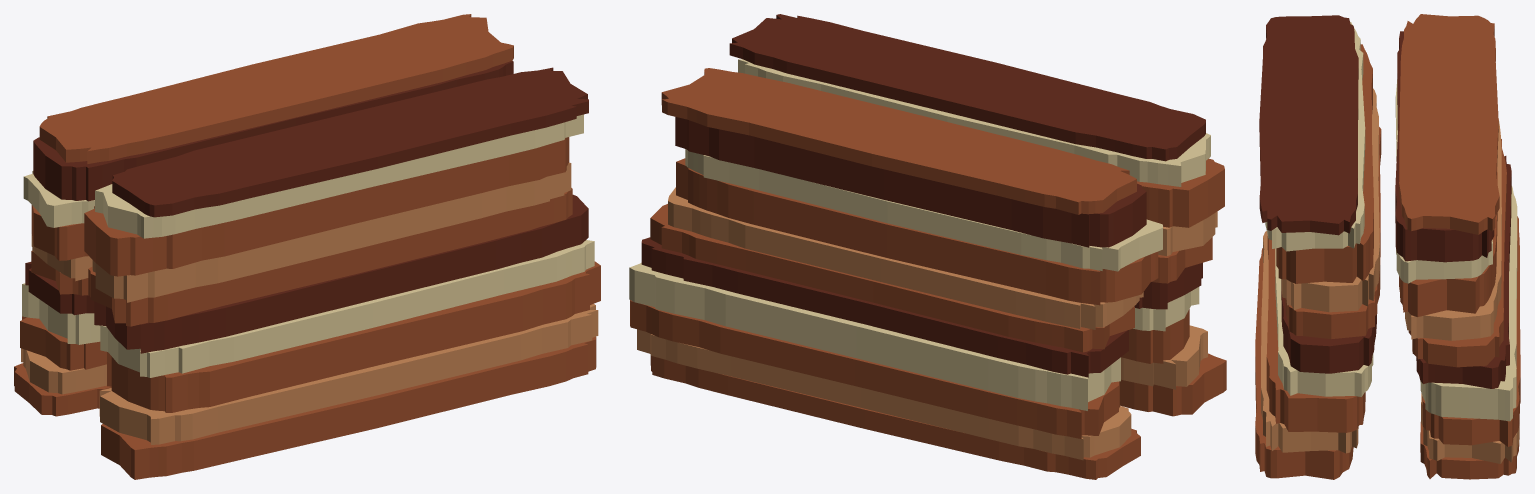
Rendered from redrock_slot.glb.
3 views of the same model, side by side, from view 1: azimuth 30°, elevation 25°; view 2: azimuth 150°, elevation 25°; view 3: azimuth 270°, elevation 25° (orthographic). The views are drawn at different scales.
Parts seen in each view (by area): view 1: redrock_slot; view 2: redrock_slot; view 3: redrock_slot.
Part boxes in pixels (x1=…): redrock_slot: x1=14, y1=14, x2=600, y2=479; redrock_slot: x1=629, y1=14, x2=1226, y2=479; redrock_slot: x1=1255, y1=14, x2=1520, y2=479.
Size of the model in its own units: 13.34 by 7 by 6.6.
